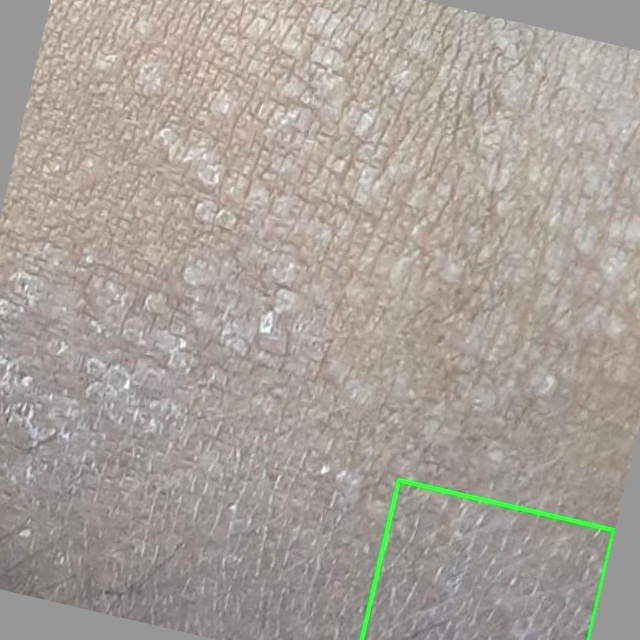Atopic Dermatitis: (362, 480, 614, 639)
